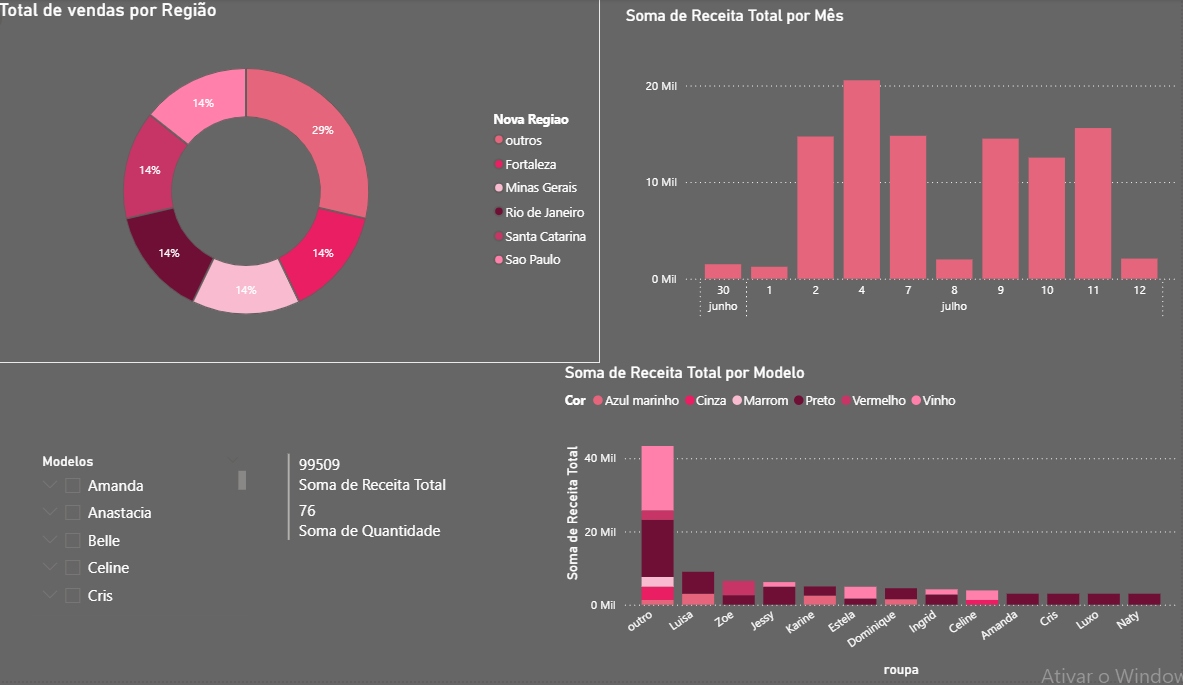

The page's visual inventory and layout, read from the dashboard file:
{"tool":"powerbi","page":{"name":"Página 1","canvas":[1280,720],"ordinal":0},"visuals":[{"type":"lineStackedColumnComboChart","title":"Soma de Receita Total por Mês","fields":{"Y":["vendas_tratado.Receita Total"],"Category":["vendas_tratado.Data da Venda.Variation.Hierarquia de datas.Mês","vendas_tratado.Data da Venda.Variation.Hierarquia de datas.Dia"]},"box":[688.4,7.7,591.6,351.9],"z":0},{"type":"multiRowCard","fields":{"Values":["vendas_tratado.Receita Total","vendas_tratado.Quantidade"]},"box":[331,475.1,191.3,127.6],"z":1000},{"type":"donutChart","title":"Total de vendas por Região","fields":{"Category":["total_vendas.Nova Regiao"],"Y":["total_vendas.Regiao"]},"box":[26.4,0,640,383.8],"z":2000},{"type":"lineStackedColumnComboChart","title":"Soma de Receita Total por Modelo","fields":{"Category":["modelos_tratados.roupa"],"Series":["vendas_tratado.Cor"],"Y":["vendas_tratado.Receita Total"]},"box":[623.5,383.8,656.5,336.5],"z":3000},{"type":"slicer","fields":{"Values":["vendas_tratado.Modelo","vendas_tratado.Cor"]},"box":[64.9,475.1,233.1,175.9],"z":4000},{"type":"actionButton","box":[0,0,100,40],"z":5000}]}

Visuals, with their boxes on the page's 1280x720 design canvas (x1, y1, x2, y2). These are canvas units, not pixel positions in the 1183x685 screenshot, which may show the page scaled, cropped or inside an application window:
"Soma de Receita Total por Mês" lineStackedColumnComboChart: pyautogui.locateOnScreen(688, 8, 1280, 360)
multiRowCard - vendas_tratado.Receita Total x vendas_tratado.Quantidade: pyautogui.locateOnScreen(331, 475, 522, 603)
"Total de vendas por Região" donutChart: pyautogui.locateOnScreen(26, 0, 666, 384)
"Soma de Receita Total por Modelo" lineStackedColumnComboChart: pyautogui.locateOnScreen(624, 384, 1280, 720)
slicer - vendas_tratado.Modelo x vendas_tratado.Cor: pyautogui.locateOnScreen(65, 475, 298, 651)
actionButton: pyautogui.locateOnScreen(0, 0, 100, 40)
